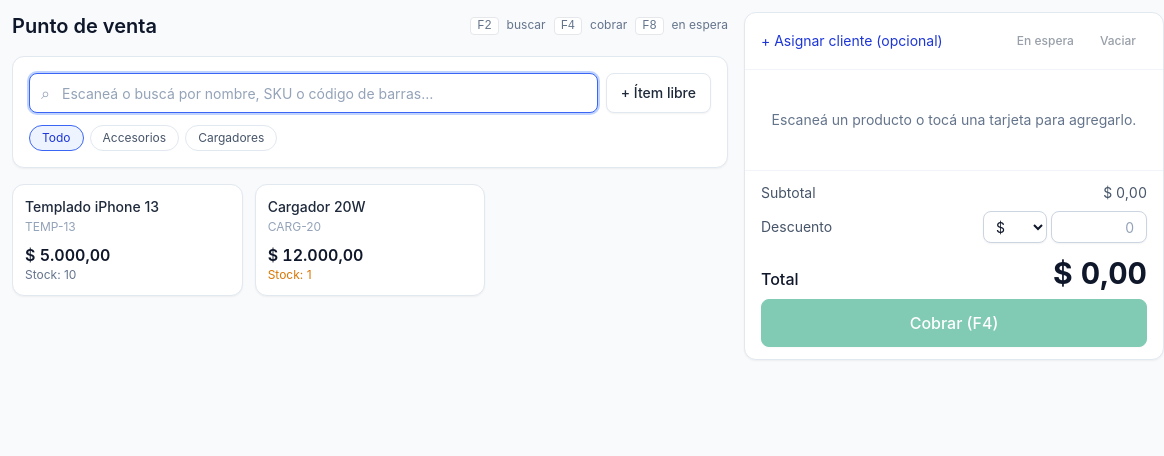
Test: PosPage › holds a sale and resumes it later
Click the button "Templado iPhone 13 TEMP-13 $ 5.000,00 Stock: 10": click(127, 240) [12,184,243,296]
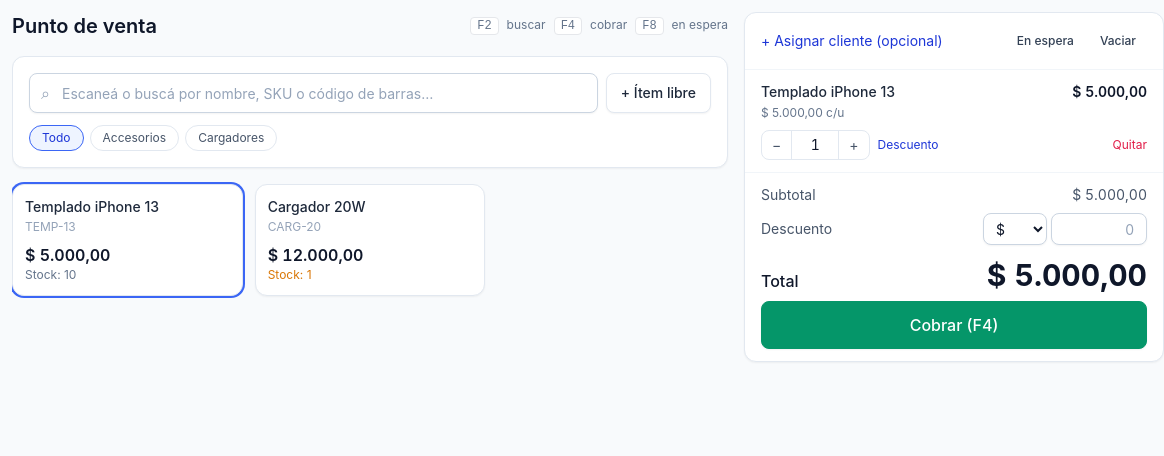
Click the button "En espera": click(1045, 41) [1006,25,1085,57]
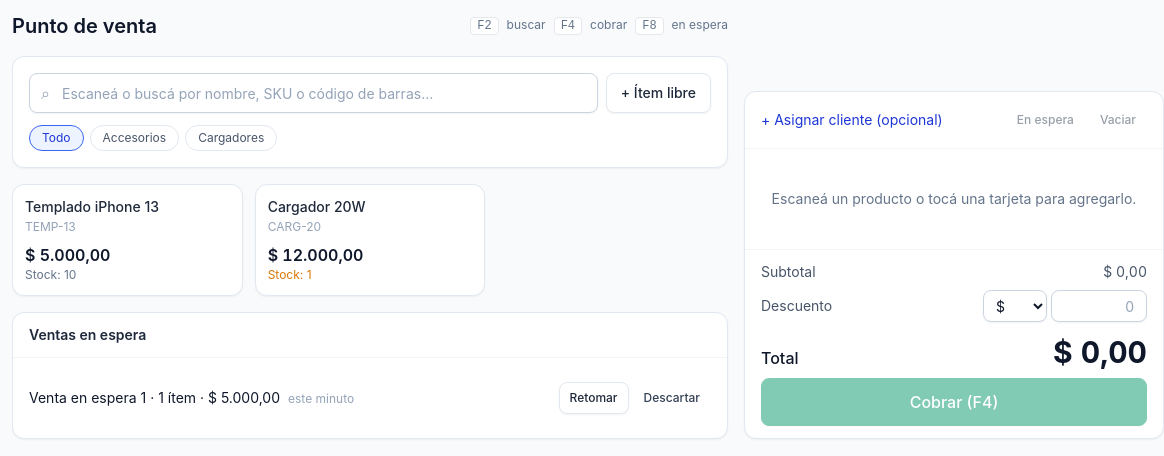
expect the list item "Escaneá un producto o tocá una tarjeta para agregarlo." is shown: met, box [772,190,1136,207]
Click the button "Retomar": click(594, 398) [558,382,628,414]
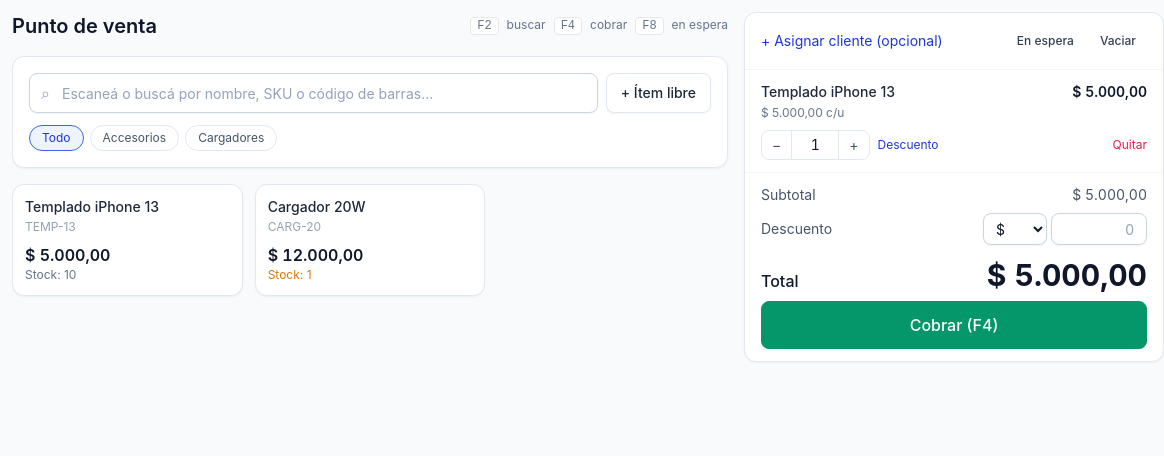
expect the list named "Carrito" shows "Templado iPhone 13": met, box [761,83,895,100]
